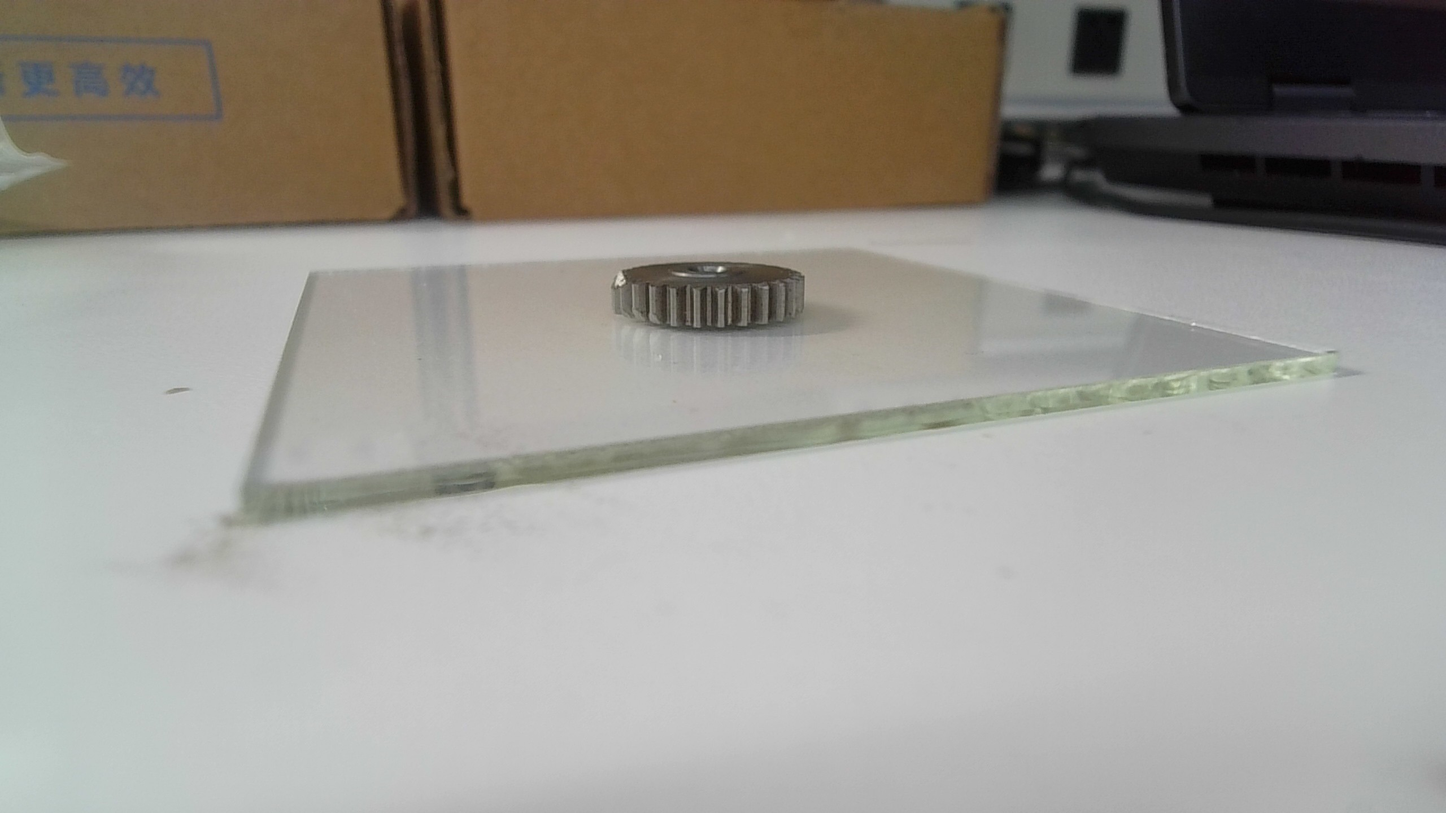gear: (608, 259, 808, 331)
